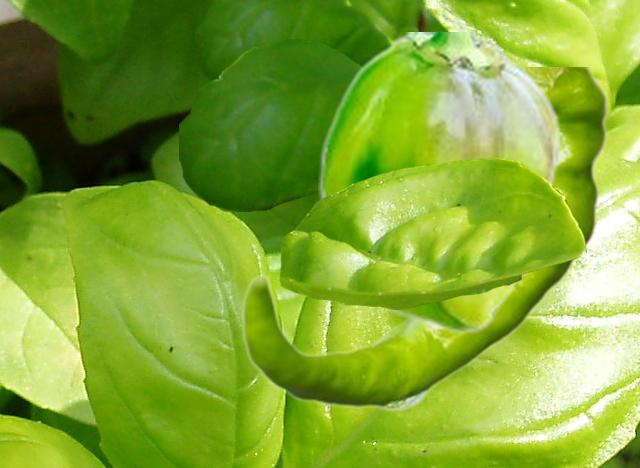green_chili: (241, 67, 609, 411), (318, 32, 561, 334)
